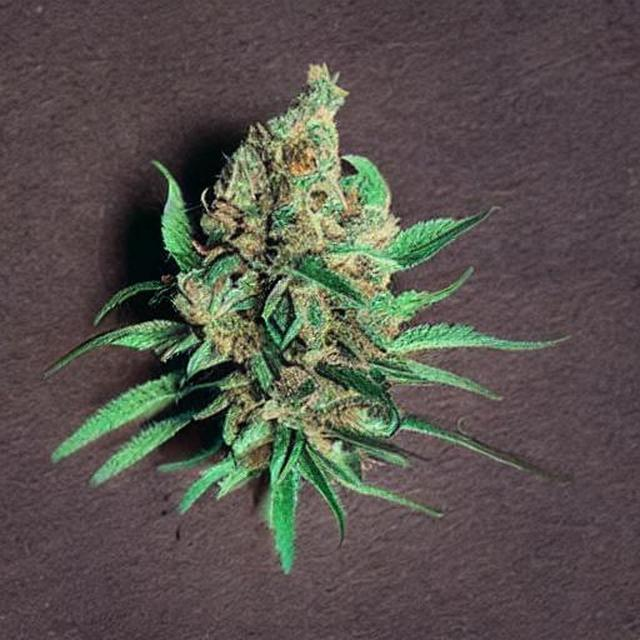Marijuana Plant: (71, 50, 532, 536)
